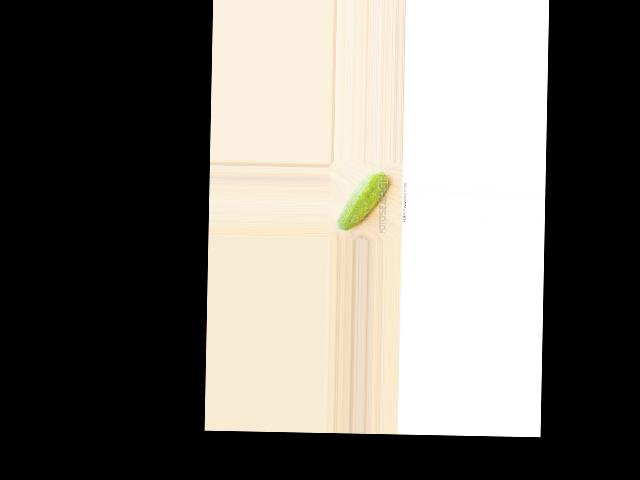cucumber: (336, 169, 389, 231)
